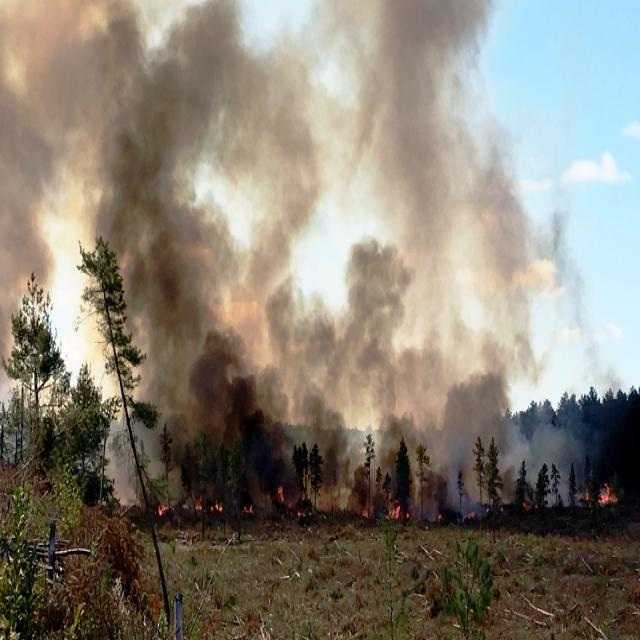asap: (306, 47, 514, 469), (83, 43, 288, 471), (1, 4, 63, 276)
